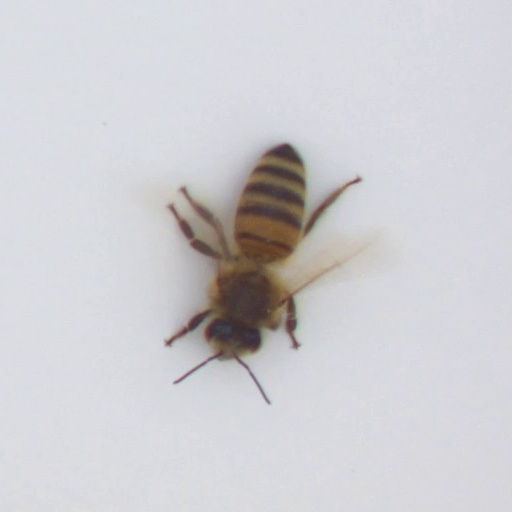Bee: (205, 151, 301, 349)
Thorax: (210, 266, 287, 328)
